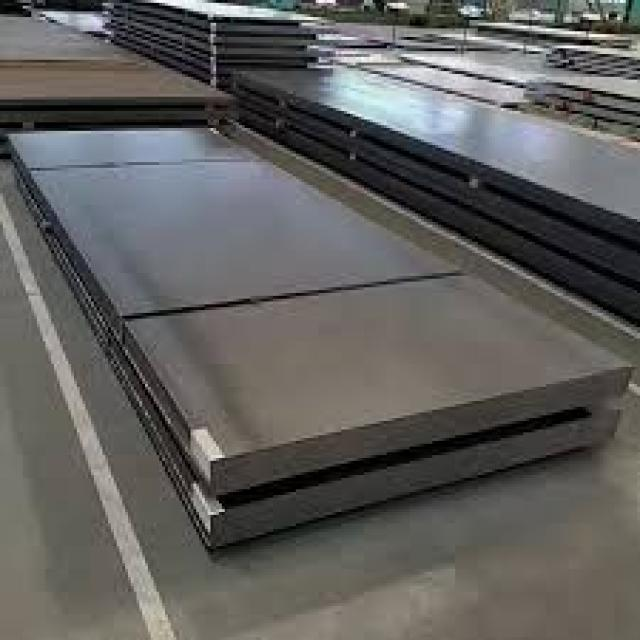Dry: (16, 119, 634, 529)
